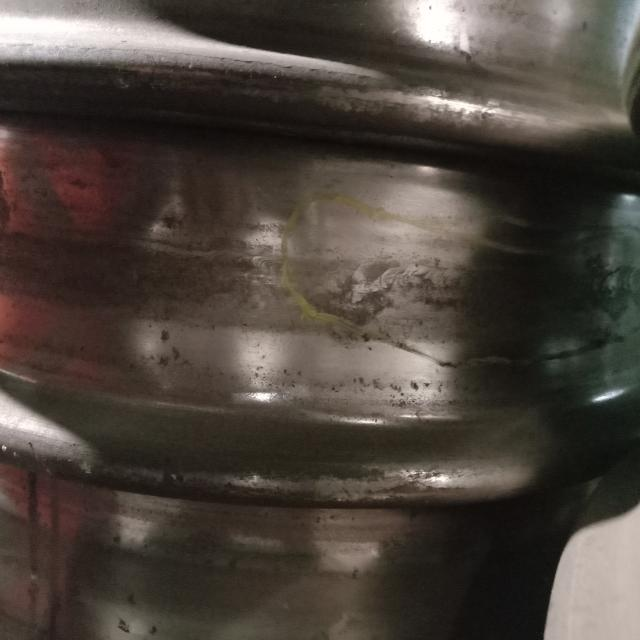flat: (320, 259, 636, 331)
